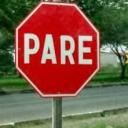Pare: (14, 0, 102, 100)
